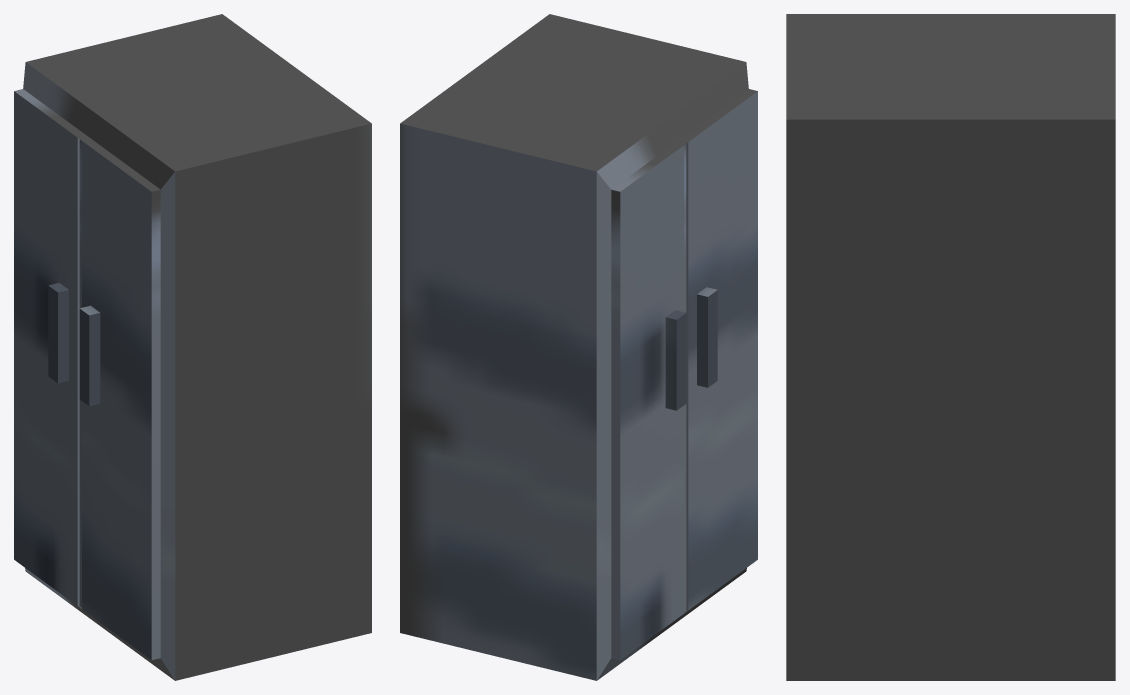
Rendered from wardrobe.fbx.
The picture shows the model from 3 angles, left to right: view 1: azimuth 30°, elevation 25°; view 2: azimuth 150°, elevation 25°; view 3: azimuth 270°, elevation 25°; orthographic projection. The views are drawn at different scales.
Parts seen in each view (by area): view 1: Wardrobe; view 2: Wardrobe; view 3: Wardrobe.
Part boxes in pixels (x1,y1,x2,y2): Wardrobe: (14, 14, 371, 680); Wardrobe: (400, 14, 757, 680); Wardrobe: (786, 14, 1115, 680).
Size of the model in its own units: 165 by 356 by 189.
